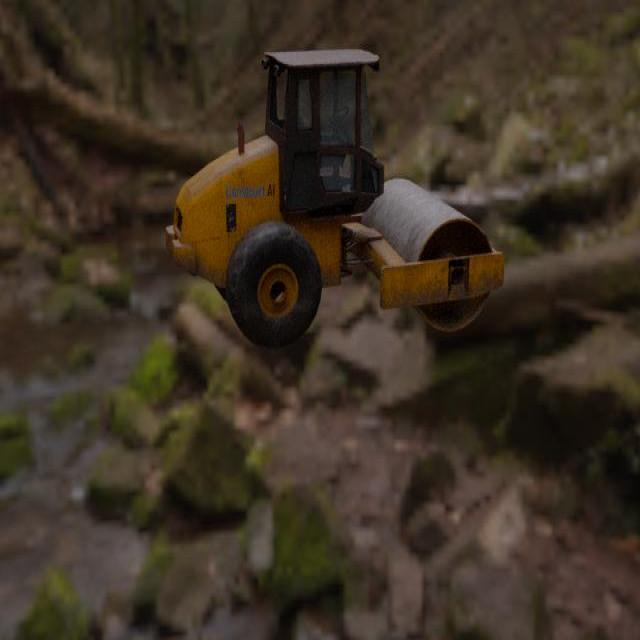Roller: (165, 48, 505, 349)
